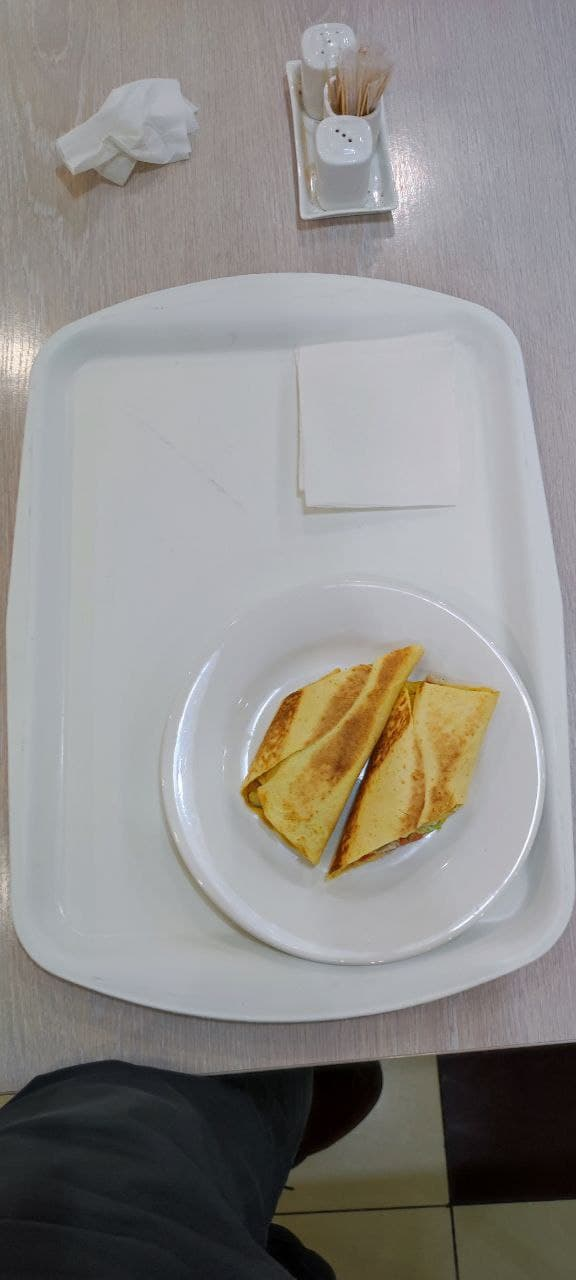Кесадилья с курицей: (242, 646, 501, 880)
Поднос: (10, 274, 576, 1029)
Салфетки: (296, 336, 469, 518)
Тарелка: (161, 580, 543, 965)
